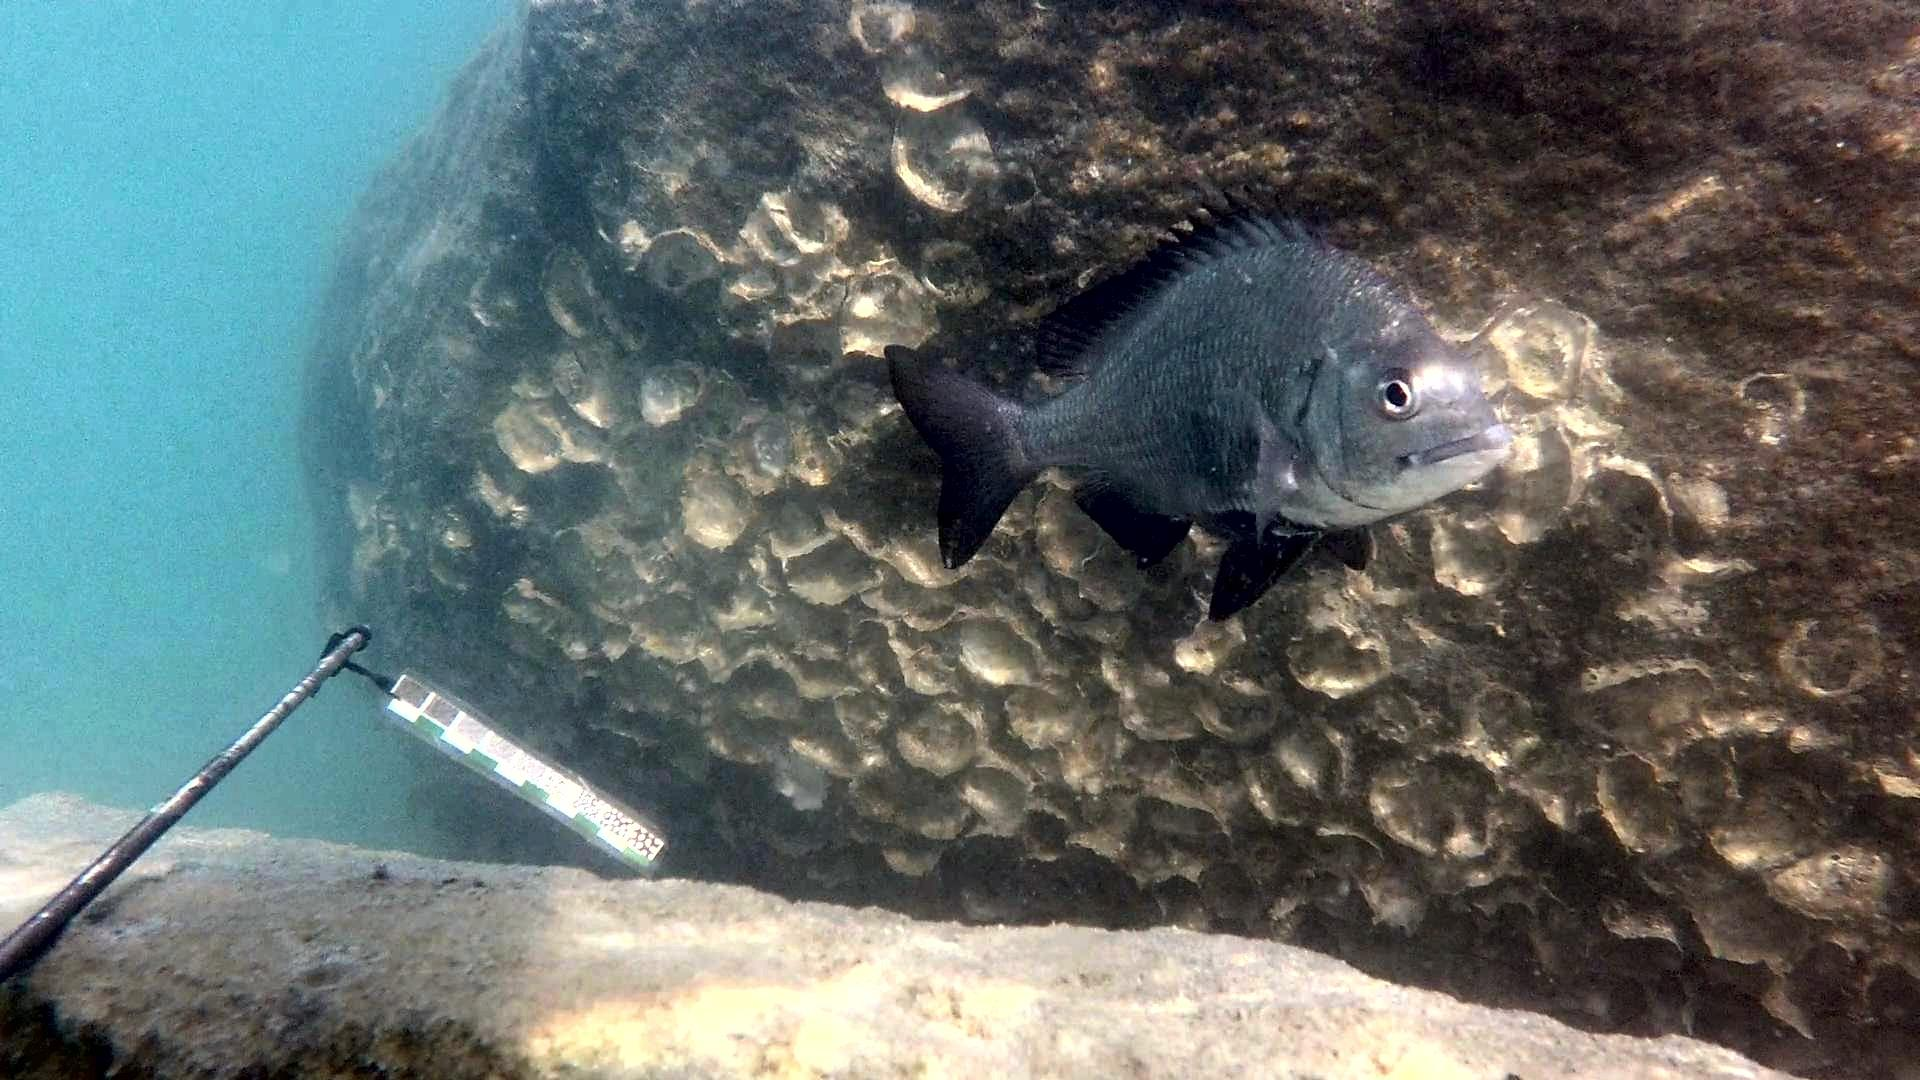acanthopagrus palmaris: (881, 173, 1520, 630)
